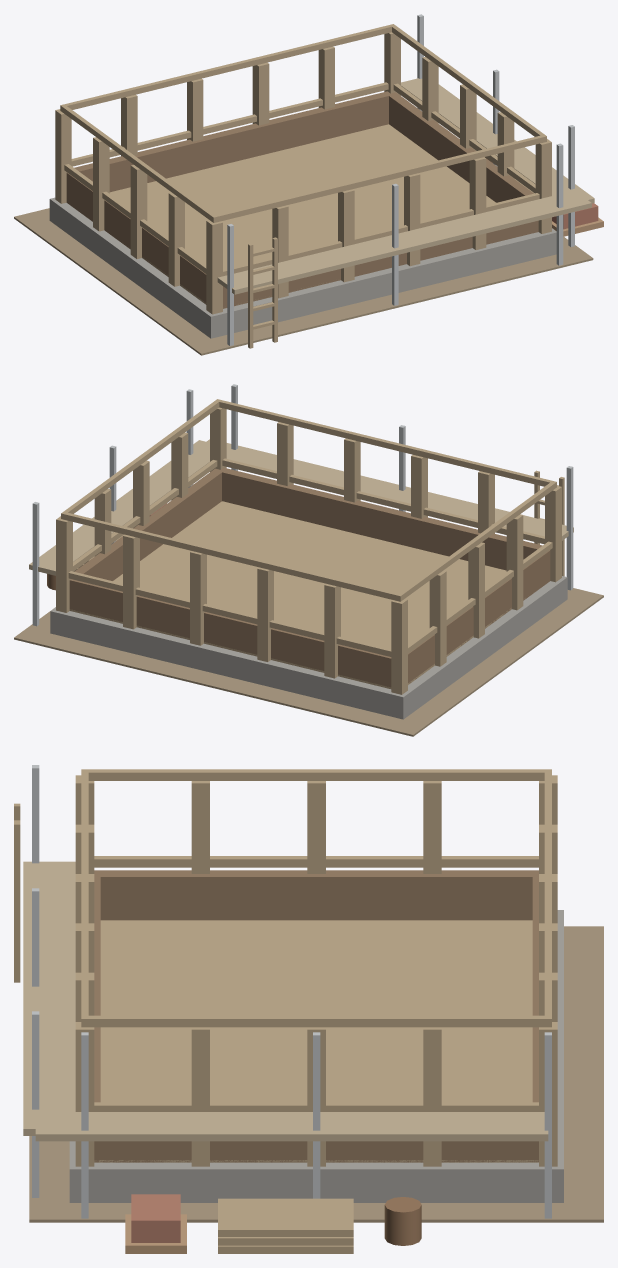
File: horse_stable_site_5.glb
3 renders of one model, top to bottom at view 1: azimuth 30°, elevation 25°; view 2: azimuth 150°, elevation 25°; view 3: azimuth 270°, elevation 25°, orthographic. The views are drawn at different scales.
Parts seen in each view (by area): view 1: body; view 2: body; view 3: body.
Boxes of the visible parts, left/top/right/bottom form: body: left=14, top=14, right=603, bottom=355; body: left=14, top=384, right=603, bottom=736; body: left=14, top=765, right=603, bottom=1253.
Bounding box in the file's own units: 2.49 × 0.6649 × 1.91.
